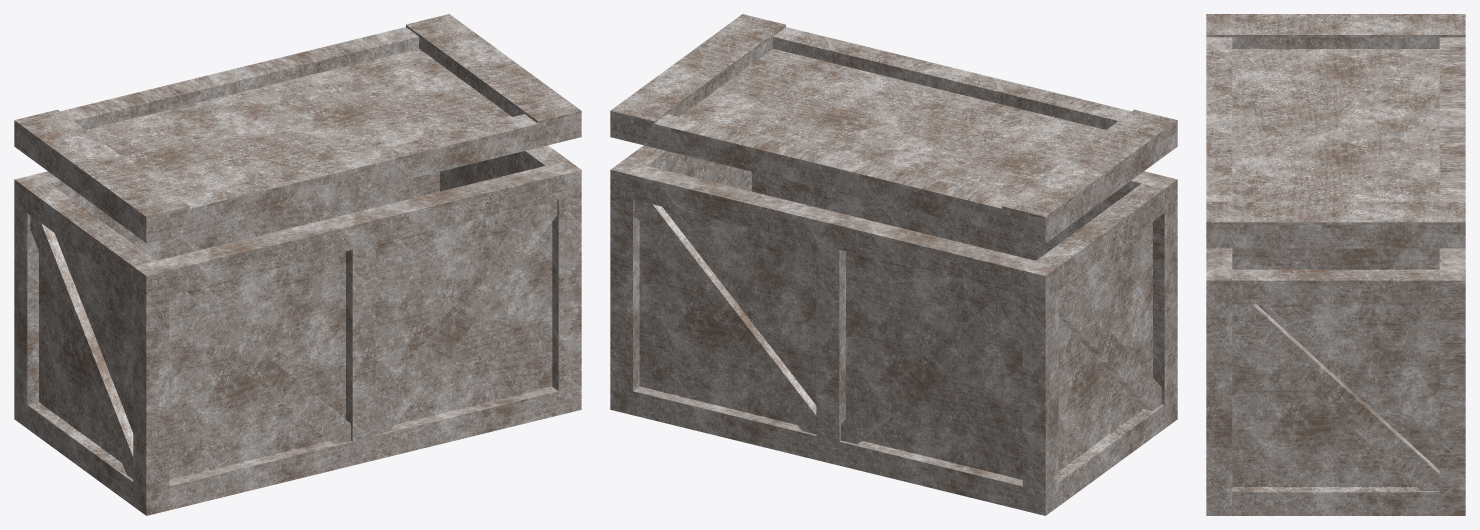
The picture shows the model from 3 angles, left to right: view 1: azimuth 30°, elevation 25°; view 2: azimuth 150°, elevation 25°; view 3: azimuth 270°, elevation 25°; orthographic projection.
Visible parts, largest first — view 1: Crate_1 Crate_1_Body, Crate_1_Top Crate_1; view 2: Crate_1 Crate_1_Body, Crate_1_Top Crate_1; view 3: Crate_1 Crate_1_Body, Crate_1_Top Crate_1.
Boxes of the visible parts, left/top/right/bottom form: Crate_1 Crate_1_Body: left=14, top=145, right=581, bottom=515; Crate_1_Top Crate_1: left=14, top=14, right=581, bottom=243; Crate_1 Crate_1_Body: left=610, top=145, right=1177, bottom=515; Crate_1_Top Crate_1: left=610, top=14, right=1177, bottom=243; Crate_1 Crate_1_Body: left=1206, top=248, right=1465, bottom=515; Crate_1_Top Crate_1: left=1206, top=14, right=1465, bottom=248.
Size of the model in its own units: 0.019 by 0.0125 by 0.00999.
Materials: 1 (1 with a texture image).
